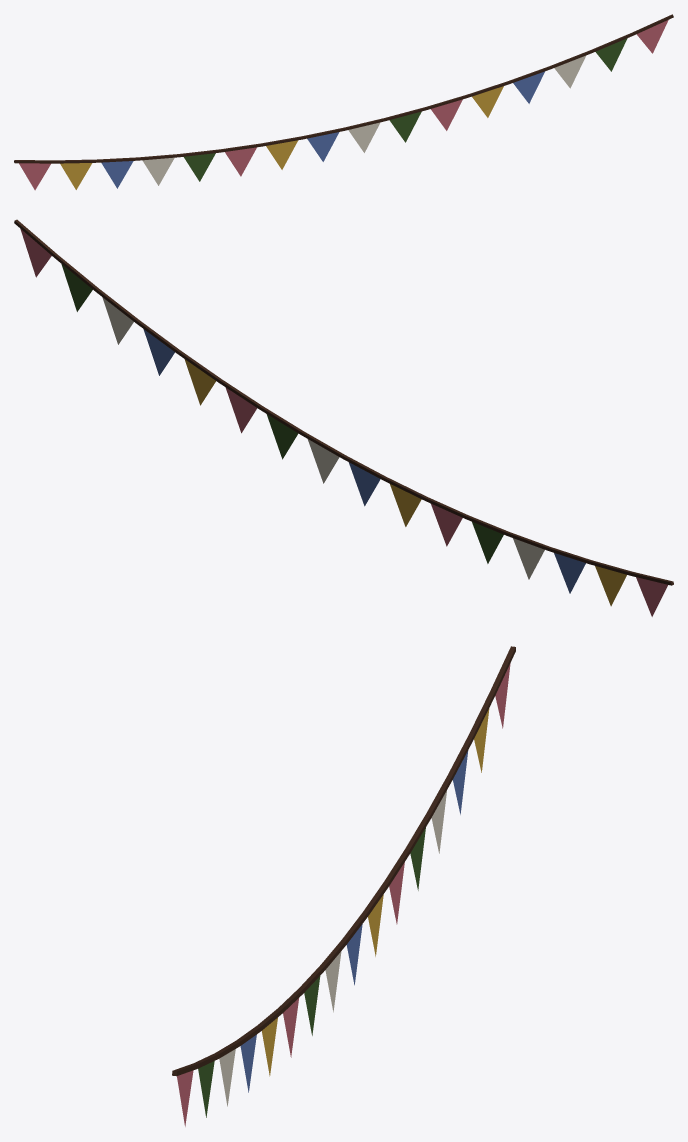
Rendered from scene_bunting_0.glb.
3 renders of one model, top to bottom at view 1: azimuth 30°, elevation 25°; view 2: azimuth 150°, elevation 25°; view 3: azimuth 270°, elevation 25°, orthographic. The views are drawn at different scales.
Visible parts, largest first — view 1: scene_bunting_0; view 2: scene_bunting_0; view 3: scene_bunting_0.
Boxes of the visible parts, x1,y1,x2,y2 form: scene_bunting_0: (14,14,673,190); scene_bunting_0: (14,219,673,616); scene_bunting_0: (172,646,515,1126).
Size of the model in its own units: 6.66 by 1.23 by 1.73.
